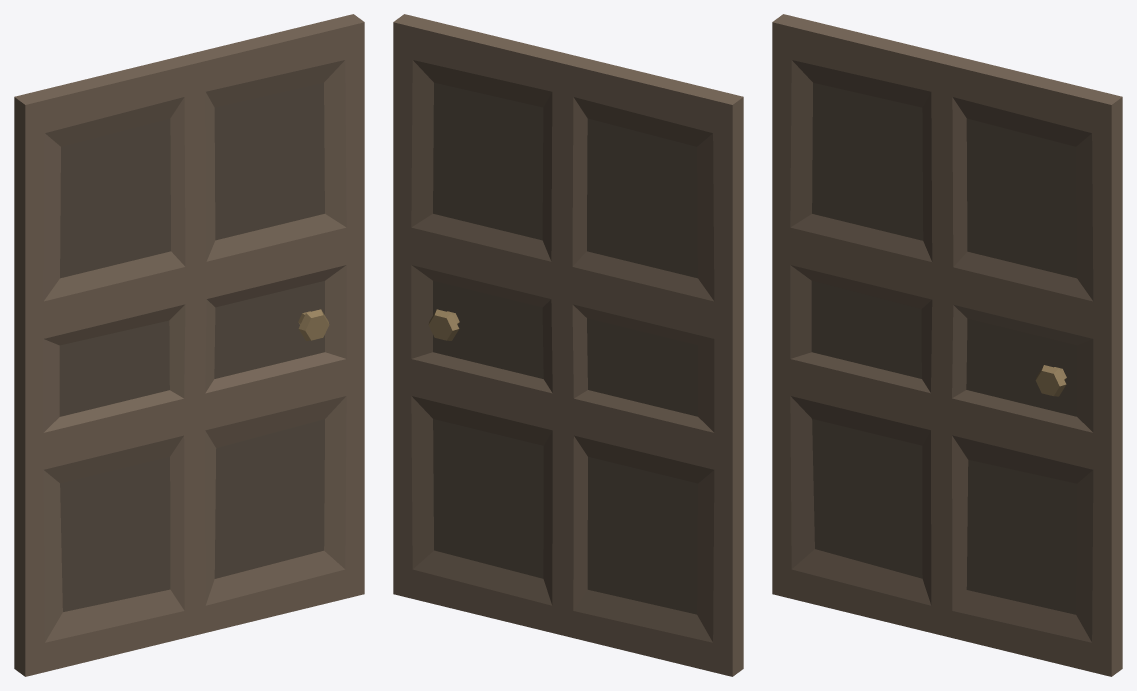
File: porte_chambre.obj
The picture shows the model from 3 angles, left to right: view 1: azimuth 30°, elevation 25°; view 2: azimuth 150°, elevation 25°; view 3: azimuth 330°, elevation 25°; orthographic projection.
Visible parts, largest first — view 1: SM_Bld_Saloon_RoomDoor_01_273_SM_Bld_Saloon_RoomDoor_01.001; view 2: SM_Bld_Saloon_RoomDoor_01_273_SM_Bld_Saloon_RoomDoor_01.001; view 3: SM_Bld_Saloon_RoomDoor_01_273_SM_Bld_Saloon_RoomDoor_01.001.
Part boxes in pixels (left/top/right/bottom): SM_Bld_Saloon_RoomDoor_01_273_SM_Bld_Saloon_RoomDoor_01.001: left=14, top=14, right=364, bottom=676; SM_Bld_Saloon_RoomDoor_01_273_SM_Bld_Saloon_RoomDoor_01.001: left=393, top=14, right=743, bottom=676; SM_Bld_Saloon_RoomDoor_01_273_SM_Bld_Saloon_RoomDoor_01.001: left=772, top=14, right=1122, bottom=676.
Size of the model in its own units: 1.32 by 2.13 by 0.1867.
